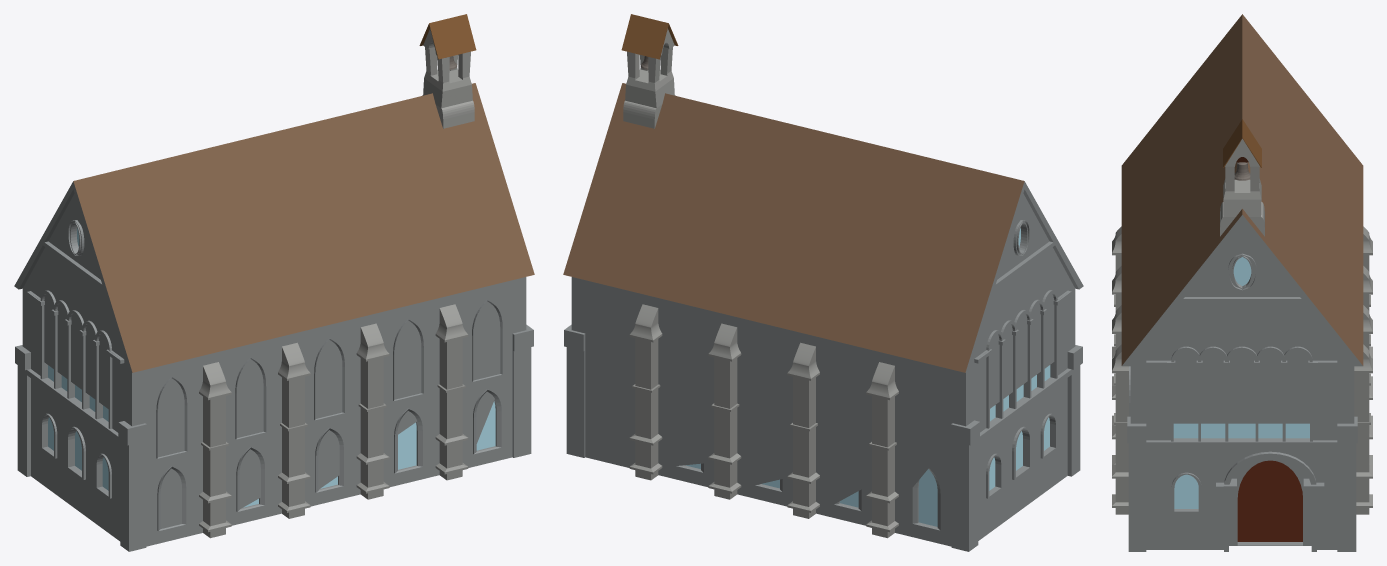
File: SchoolColors.fbx
The picture shows the model from 3 angles, left to right: view 1: azimuth 30°, elevation 25°; view 2: azimuth 150°, elevation 25°; view 3: azimuth 270°, elevation 25°; orthographic projection. The views are drawn at different scales.
Visible parts, largest first — view 1: School, SideArchs, BellTower; view 2: School, SideArchs, BellTower; view 3: School, SideArchs, BellTower.
Boxes of the visible parts, <box> form: School: <box>14,83,534,551</box>; SideArchs: <box>199,304,468,538</box>; BellTower: <box>419,14,476,128</box>; School: <box>563,83,1083,551</box>; SideArchs: <box>629,304,898,538</box>; BellTower: <box>621,14,678,128</box>; School: <box>1121,14,1363,551</box>; SideArchs: <box>1112,226,1372,514</box>; BellTower: <box>1220,119,1264,236</box>.
Size of the model in its own units: 5175 by 4860 by 2802.
